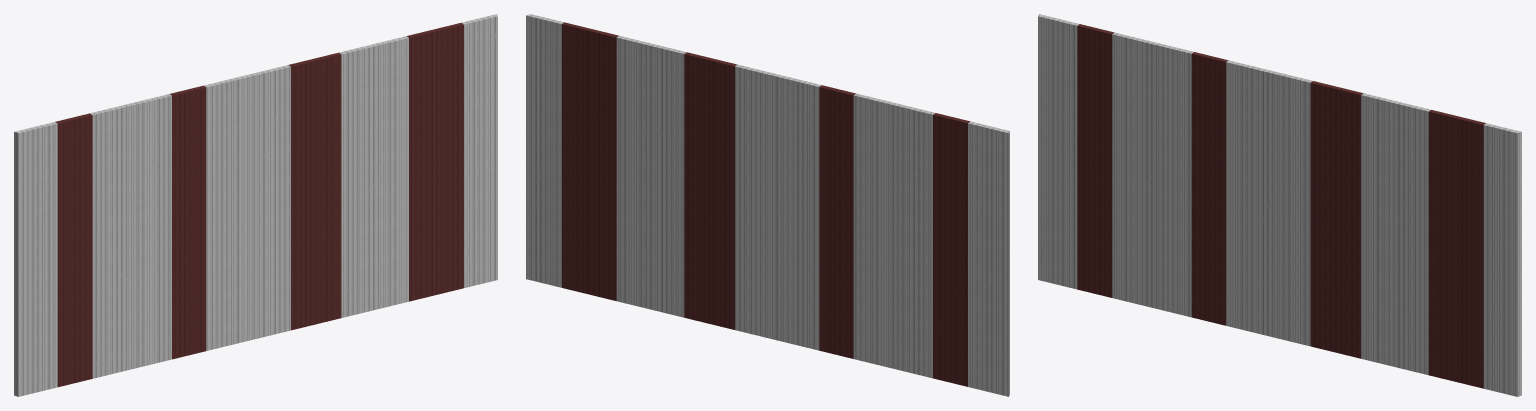
Rendered from Back.glb.
The picture shows the model from 3 angles, left to right: view 1: azimuth 30°, elevation 25°; view 2: azimuth 150°, elevation 25°; view 3: azimuth 330°, elevation 25°; orthographic projection.
Visible parts, largest first — view 1: Wall_Back; view 2: Wall_Back; view 3: Wall_Back.
Part boxes in pixels (x1,y1,x2,y2): Wall_Back: [14, 14, 497, 396]; Wall_Back: [526, 14, 1009, 396]; Wall_Back: [1038, 14, 1521, 396].
Size of the model in its own units: 230 by 120 by 2.18.
2 materials, 2 textured.
